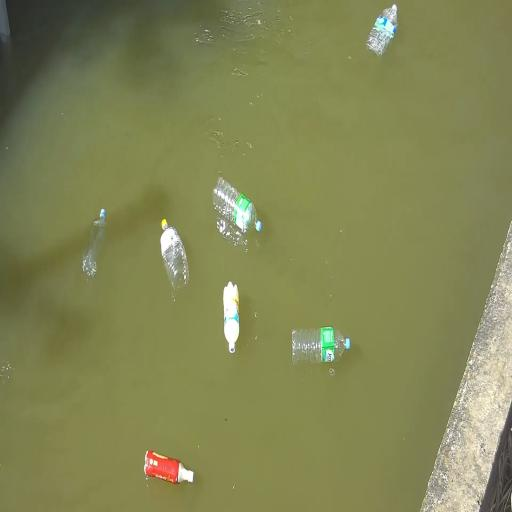plastic: (213, 177, 261, 233), (292, 327, 350, 364), (161, 219, 189, 288), (144, 451, 193, 484), (366, 4, 397, 56), (83, 209, 106, 277), (223, 282, 239, 353)
